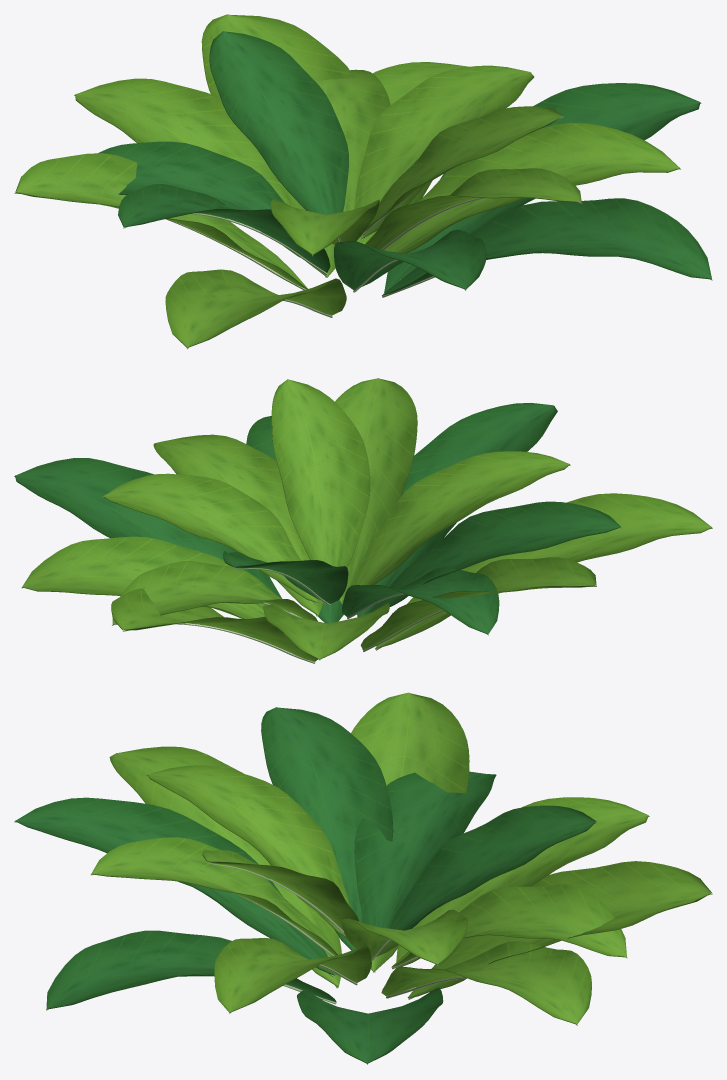
The model's file is lettuce-cos-mobile.glb.
The picture shows the model from 3 angles, top to bottom: view 1: azimuth 30°, elevation 25°; view 2: azimuth 150°, elevation 25°; view 3: azimuth 270°, elevation 25°; orthographic projection. The views are drawn at different scales.
Visible parts, largest first — view 1: Lettuce · Cos; view 2: Lettuce · Cos; view 3: Lettuce · Cos.
Part boxes in pixels (x1,y1,x2,y2): Lettuce · Cos: [14, 14, 712, 349]; Lettuce · Cos: [14, 378, 712, 663]; Lettuce · Cos: [14, 692, 712, 1064].
Bounding box in the file's own units: 0.6118 × 0.1892 × 0.5706.
Materials: 3 (2 with a texture image).
